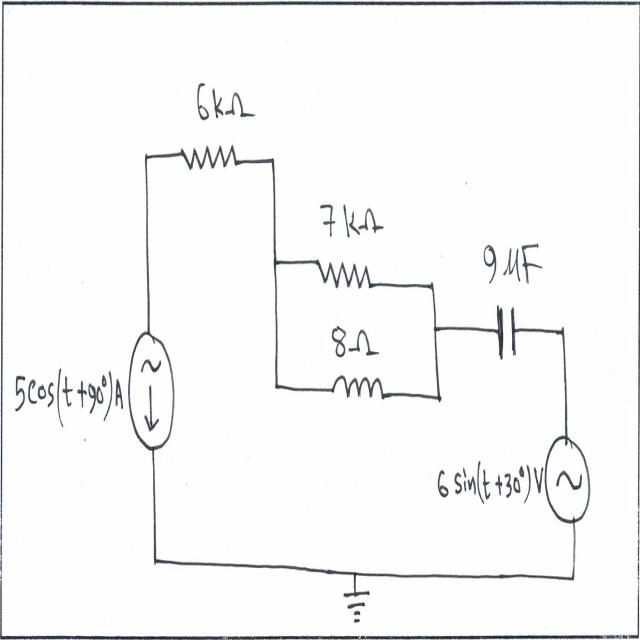ac_current: (544, 422, 594, 528)
capacitor: (492, 296, 520, 369)
current_source: (124, 324, 179, 457)
ground: (339, 585, 375, 629)
inductor: (328, 366, 389, 417)
resistor: (310, 244, 382, 295), (173, 135, 246, 184)
